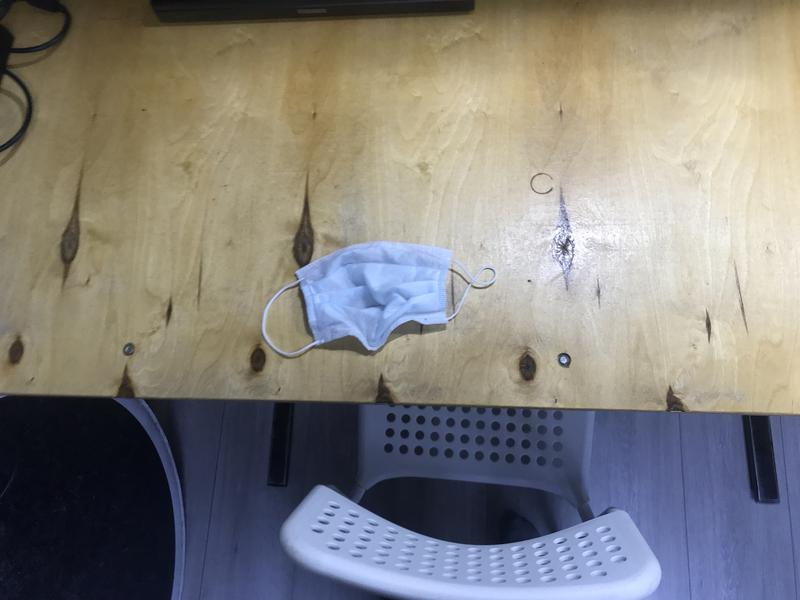medical_mask: (262, 240, 496, 360)
